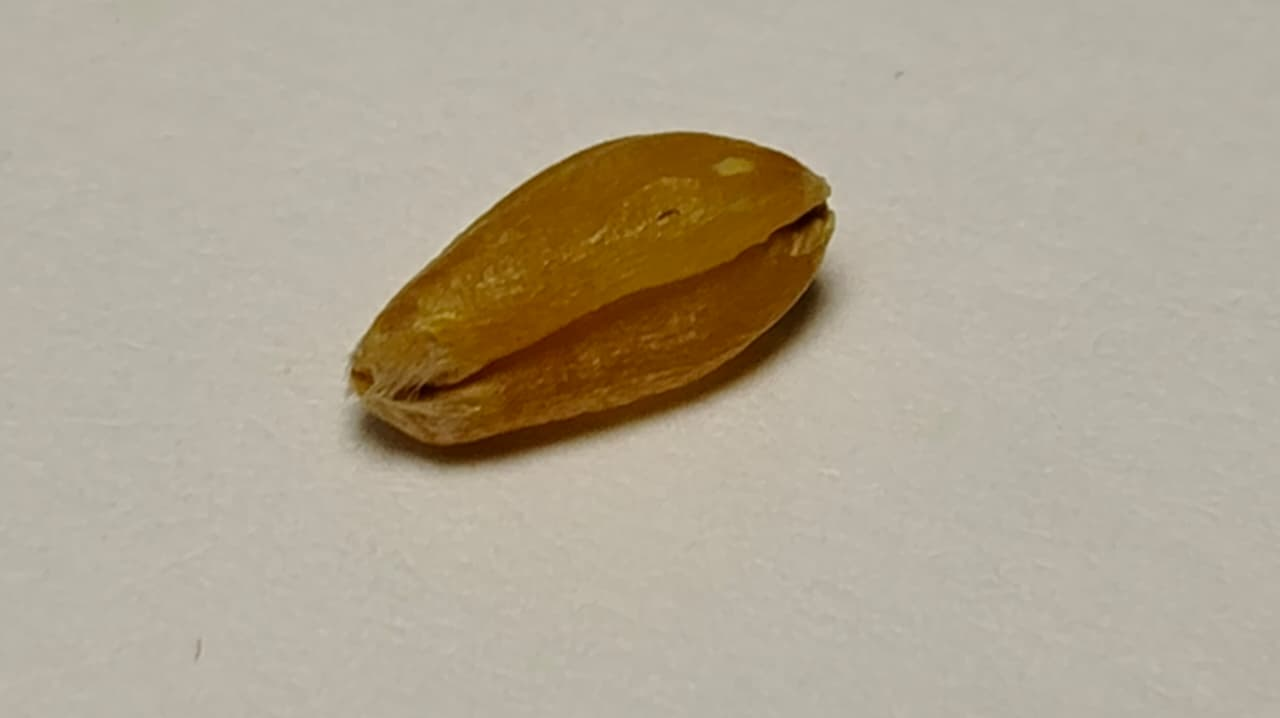healthy: (350, 132, 833, 444)
